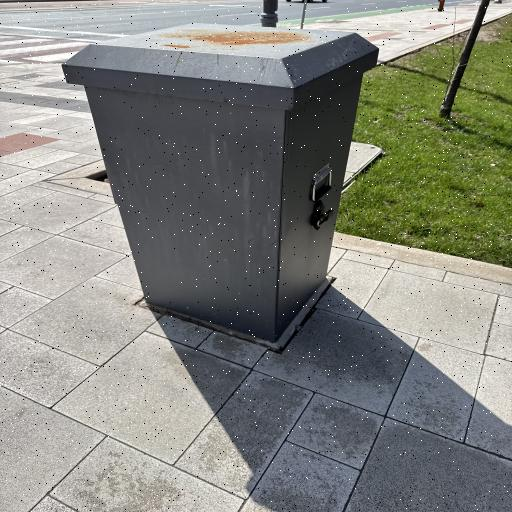Electrical Box: (60, 21, 378, 343)
